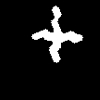single_crochet: (32, 6, 82, 62)
